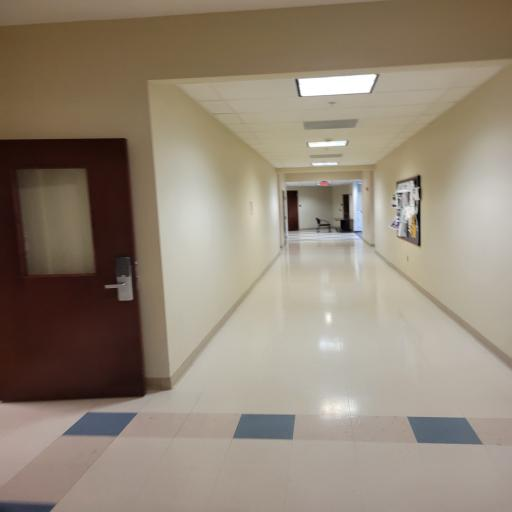door: (0, 135, 136, 405)
